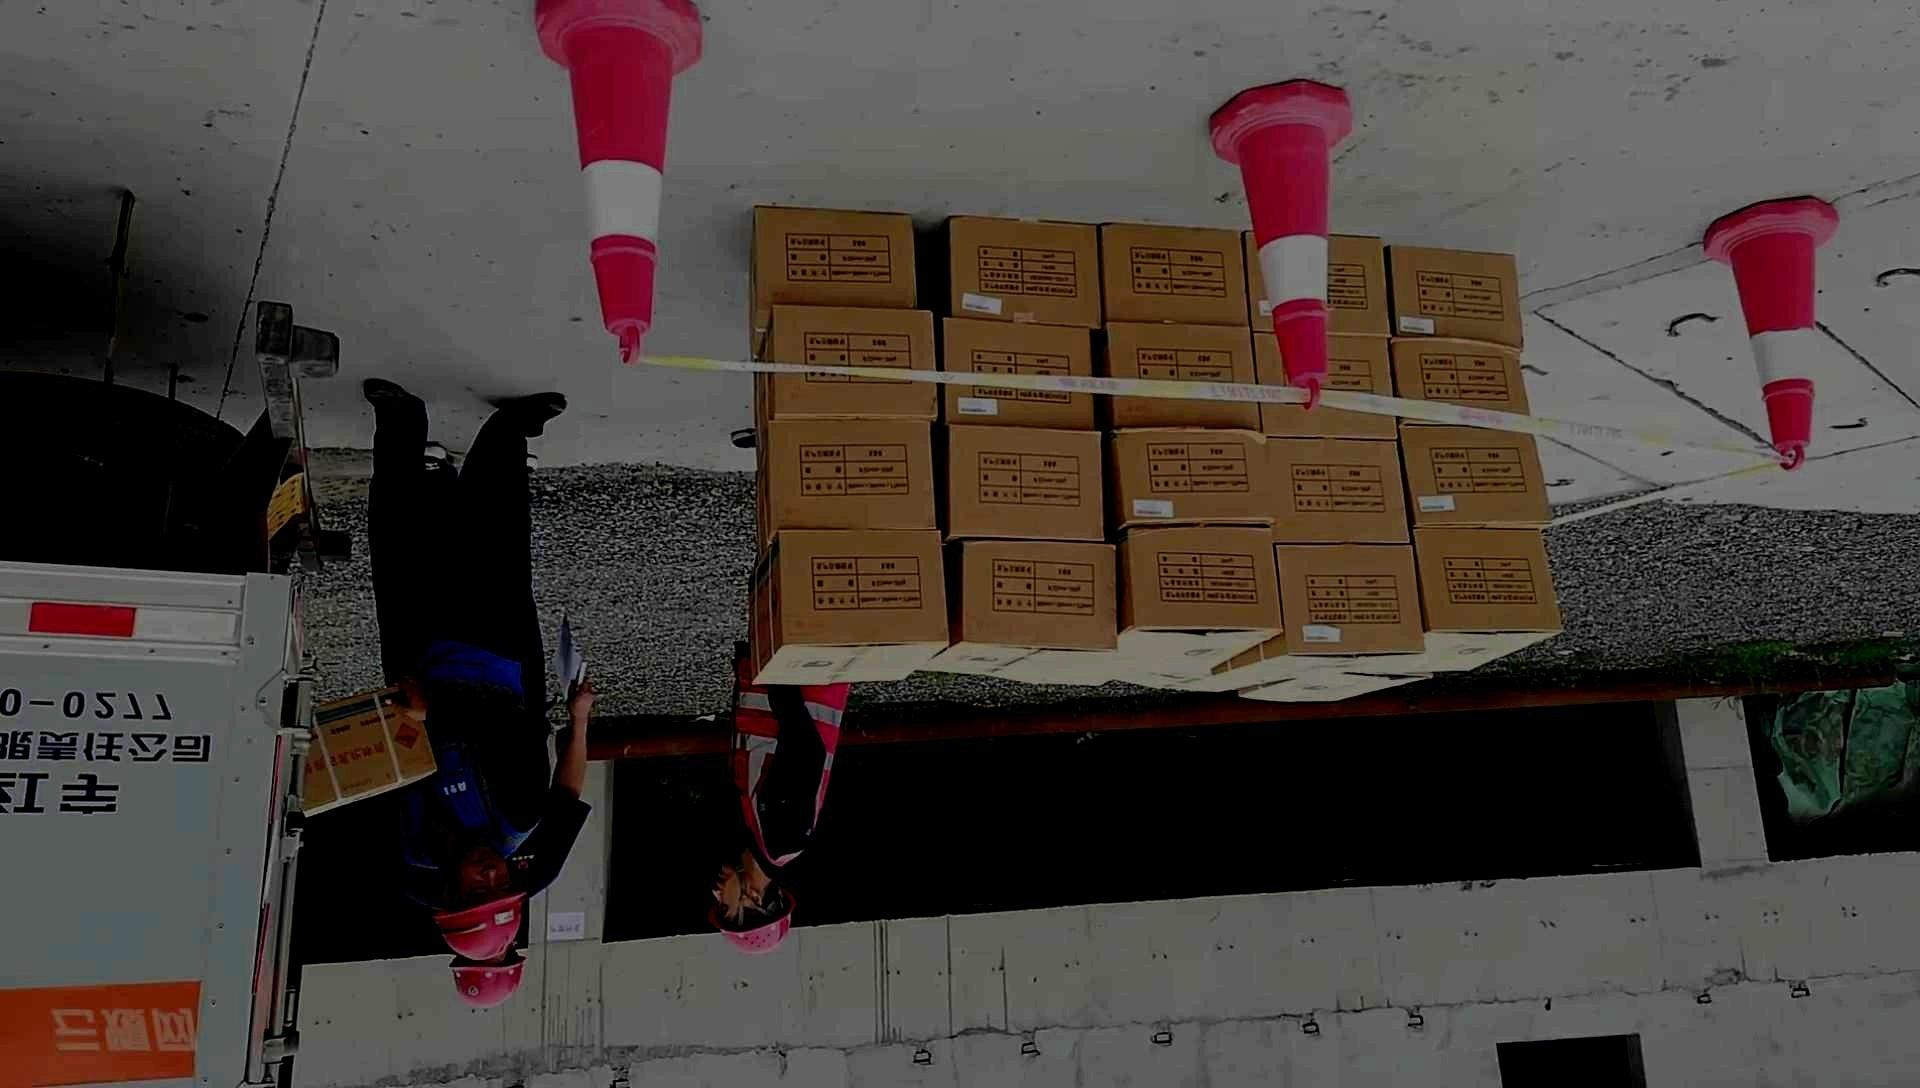helmet: (434, 844, 527, 961), (711, 865, 796, 956), (447, 944, 527, 1008)
